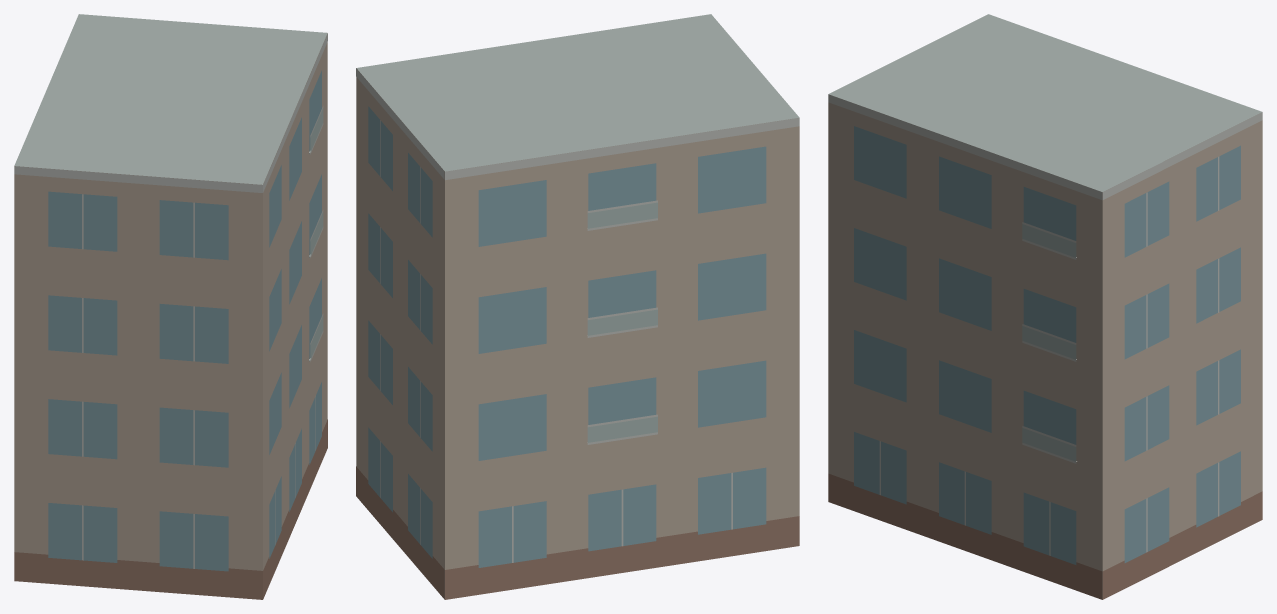
Rendered from residential-5eacd60a-d154-4ccb-83a3-1556d429fa20.glb.
3 renders of one model, left to right at view 1: azimuth 30°, elevation 25°; view 2: azimuth 150°, elevation 25°; view 3: azimuth 270°, elevation 25°, orthographic. The views are drawn at different scales.
Parts seen in each view (by area): view 1: residential-5eacd60a-d154-4ccb-83a3-1556d429fa20.tmp; view 2: residential-5eacd60a-d154-4ccb-83a3-1556d429fa20.tmp; view 3: residential-5eacd60a-d154-4ccb-83a3-1556d429fa20.tmp.
Boxes of the visible parts, x1,y1,x2,y2 form: residential-5eacd60a-d154-4ccb-83a3-1556d429fa20.tmp: [14, 14, 327, 599]; residential-5eacd60a-d154-4ccb-83a3-1556d429fa20.tmp: [356, 14, 799, 599]; residential-5eacd60a-d154-4ccb-83a3-1556d429fa20.tmp: [828, 14, 1262, 599].
Size of the model in its own units: 11.44 by 12.2 by 11.79.
